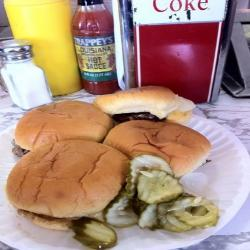burger: (7, 138, 139, 240), (104, 116, 220, 176), (10, 99, 119, 162), (99, 85, 201, 134)
